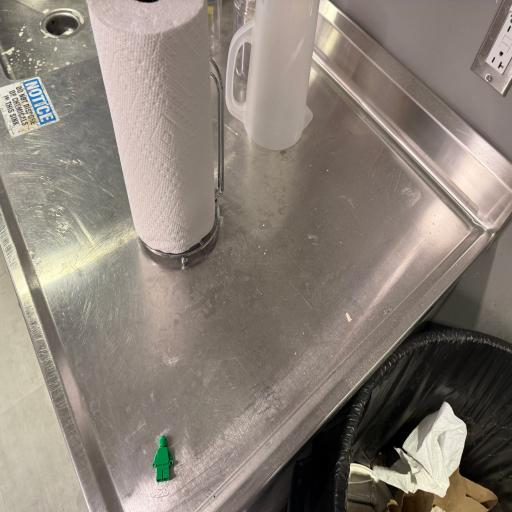Lego-Dude: (152, 435, 174, 482)
